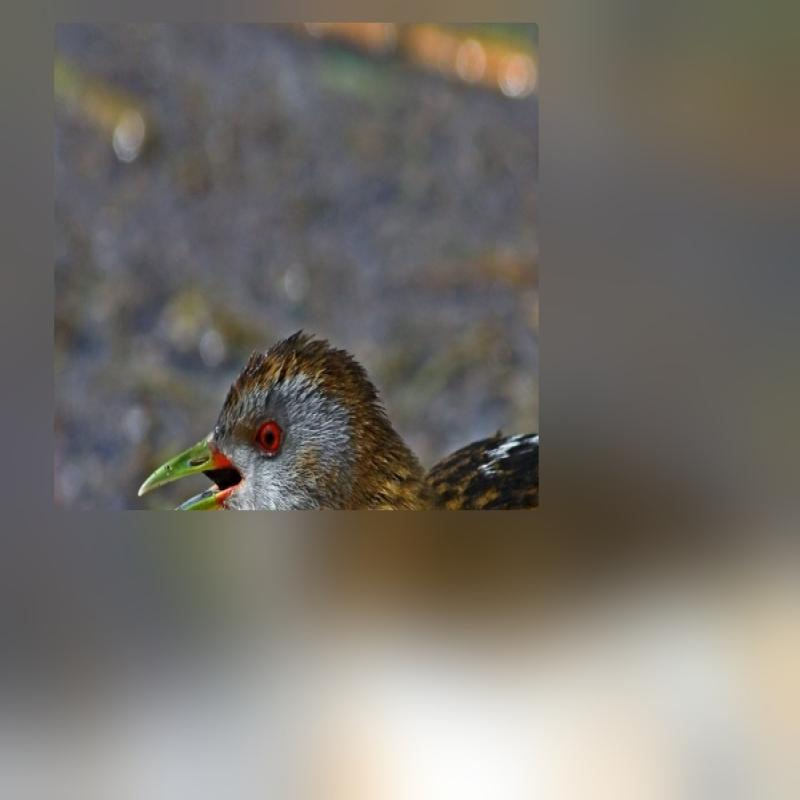little crake: (121, 284, 716, 624)
